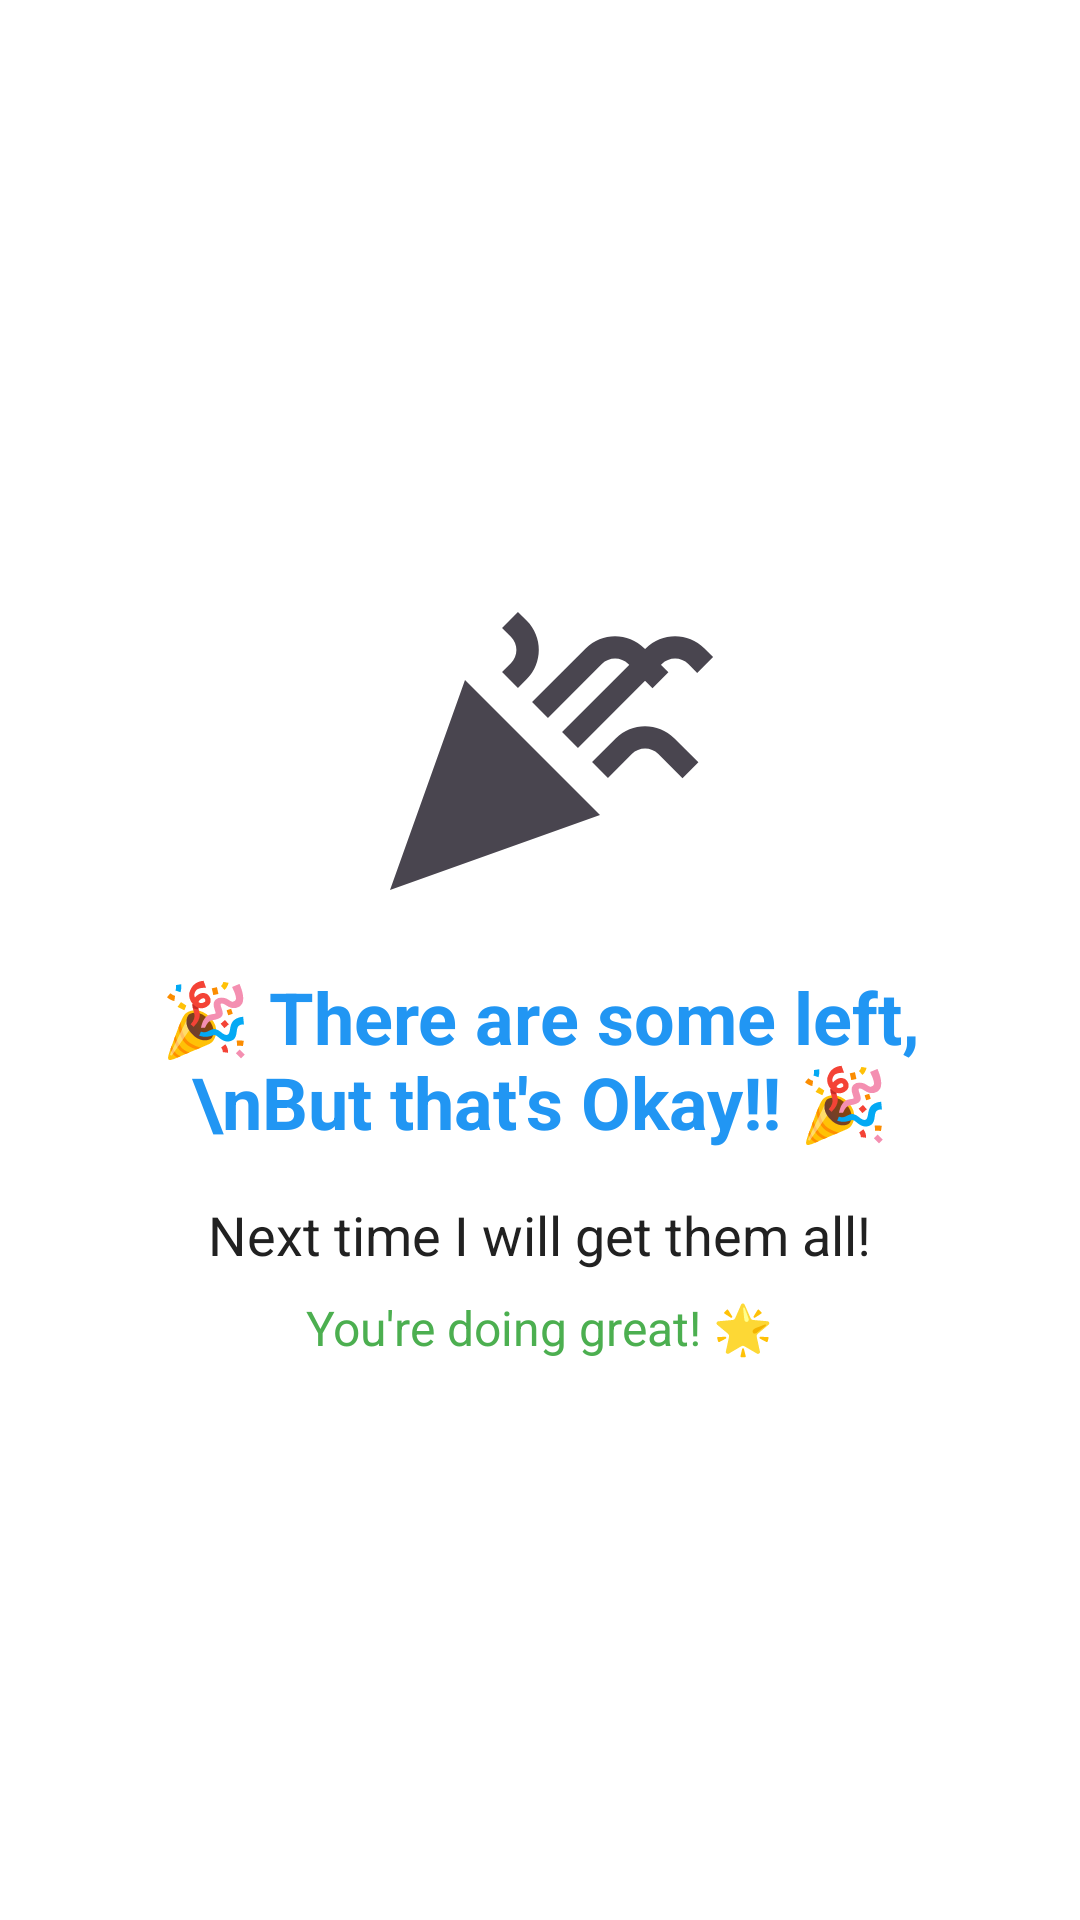

Where to tap for icons on this 1080×1920 app screen, as (x=x, y=y):
celebration: (x=551, y=751)
